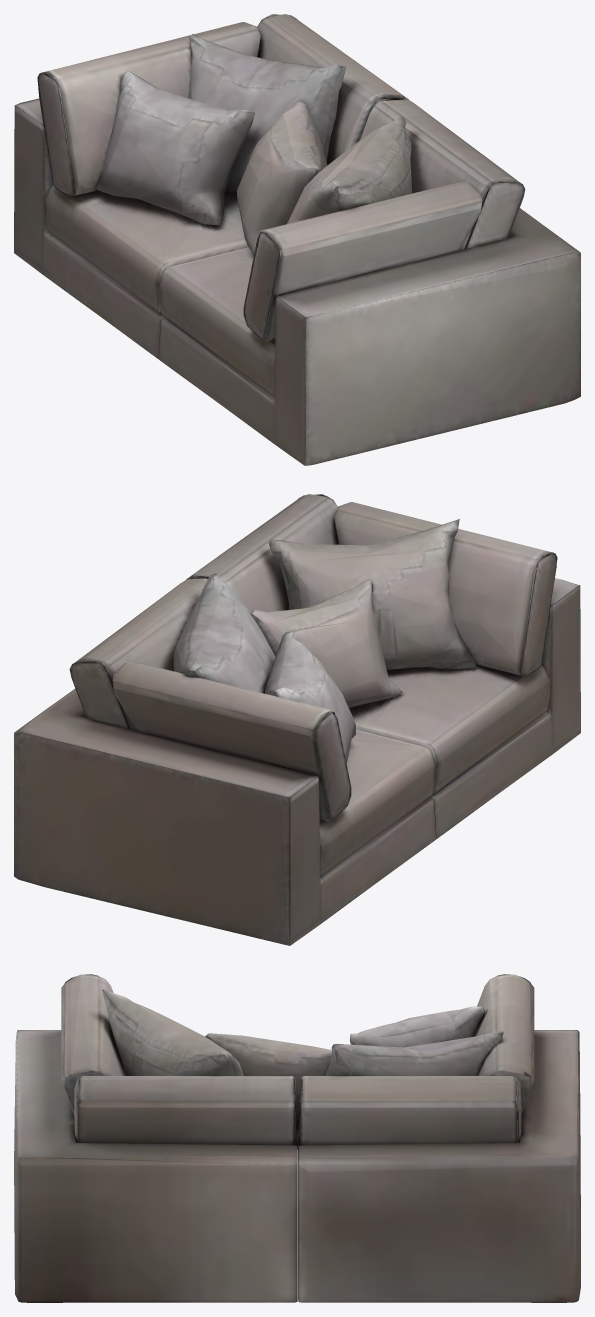
Rendered from sofa1-var1.glb.
3 renders of one model, top to bottom at view 1: azimuth 30°, elevation 25°; view 2: azimuth 150°, elevation 25°; view 3: azimuth 270°, elevation 25°, orthographic. The views are drawn at different scales.
Parts seen in each view (by area): view 1: Sala_Cozinha.3148; view 2: Sala_Cozinha.3148; view 3: Sala_Cozinha.3148.
Boxes of the visible parts, <box> form: Sala_Cozinha.3148: <box>14,14,580,465</box>; Sala_Cozinha.3148: <box>14,494,580,945</box>; Sala_Cozinha.3148: <box>14,974,580,1302</box>.
Size of the model in its own units: 1.18 by 0.9403 by 2.12.
Materials: 1 (1 with a texture image).
